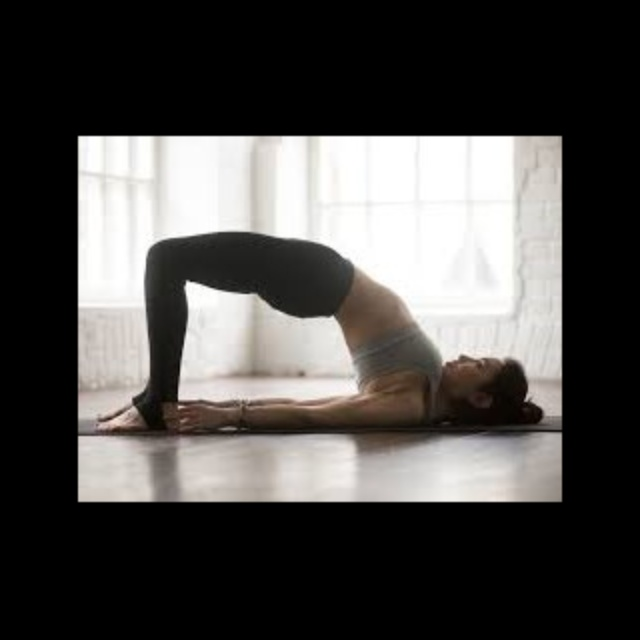Bridge_Pose: (86, 234, 550, 440)
